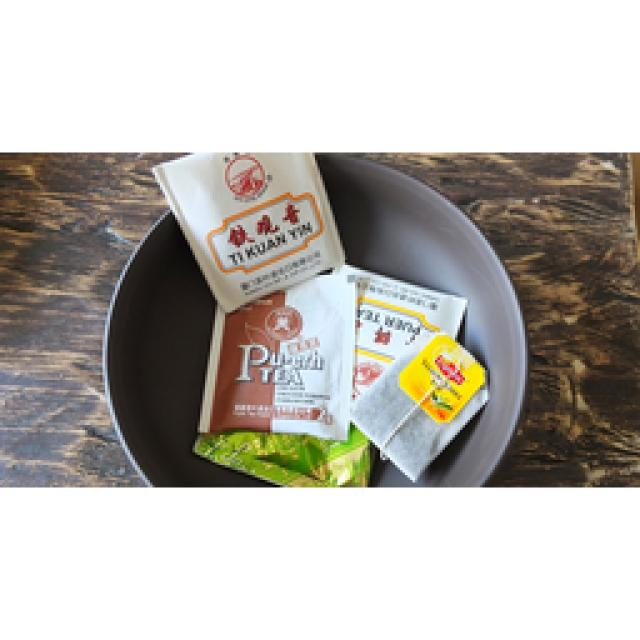tea-bags: (155, 152, 485, 485)
